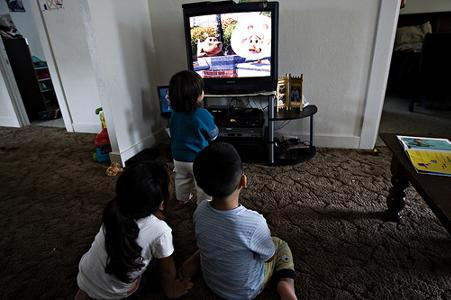person: (192, 142, 301, 299)
